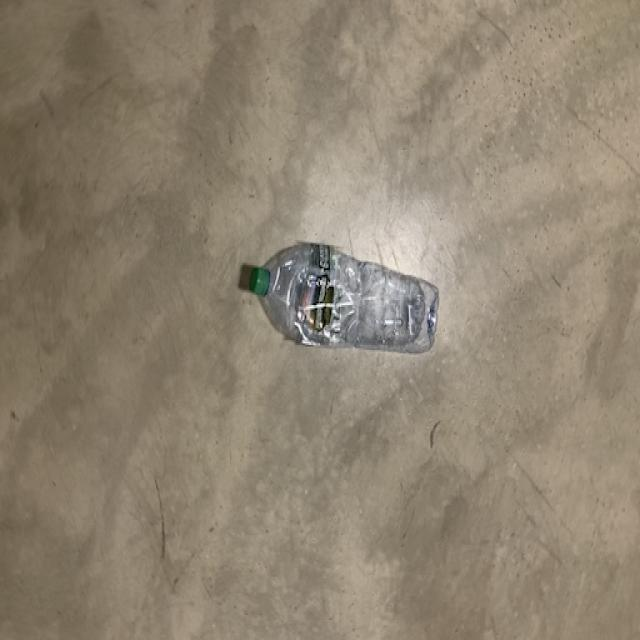litter: (244, 240, 441, 357)
